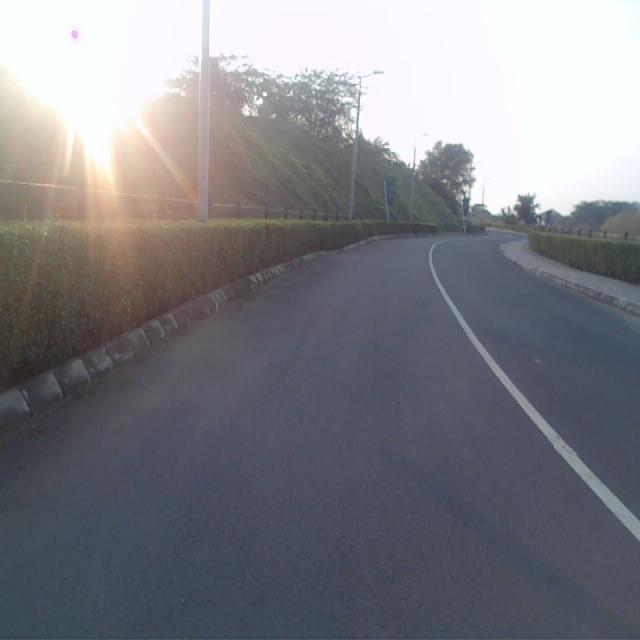lane: (0, 243, 640, 640)
